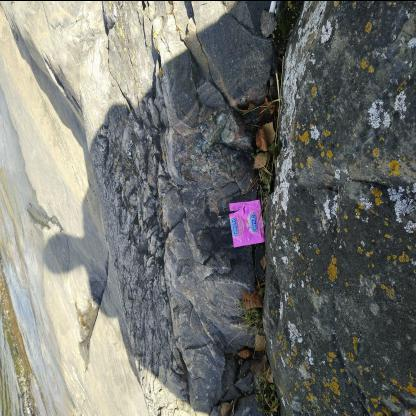plastik: (228, 198, 266, 247)
